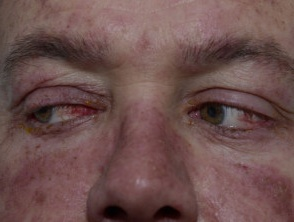SJS-TEN: (225, 143, 294, 222)
